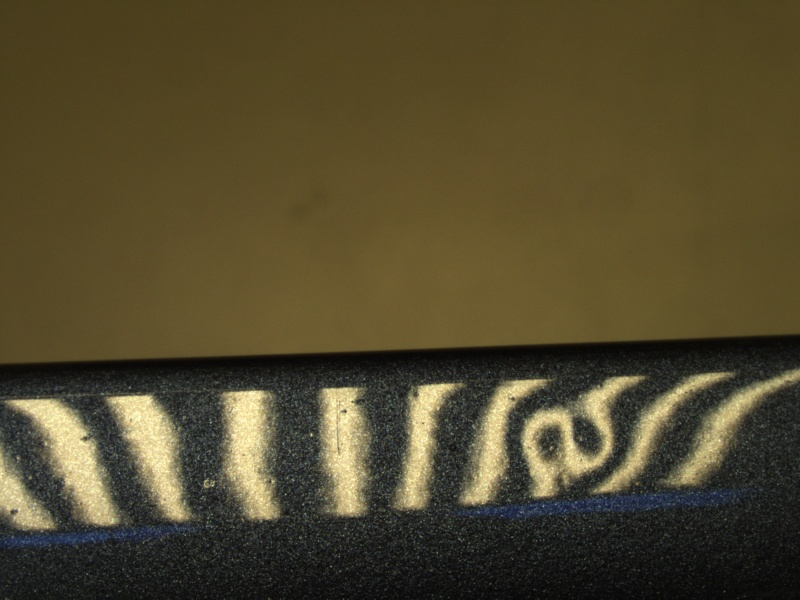bad: (514, 394, 636, 490)
